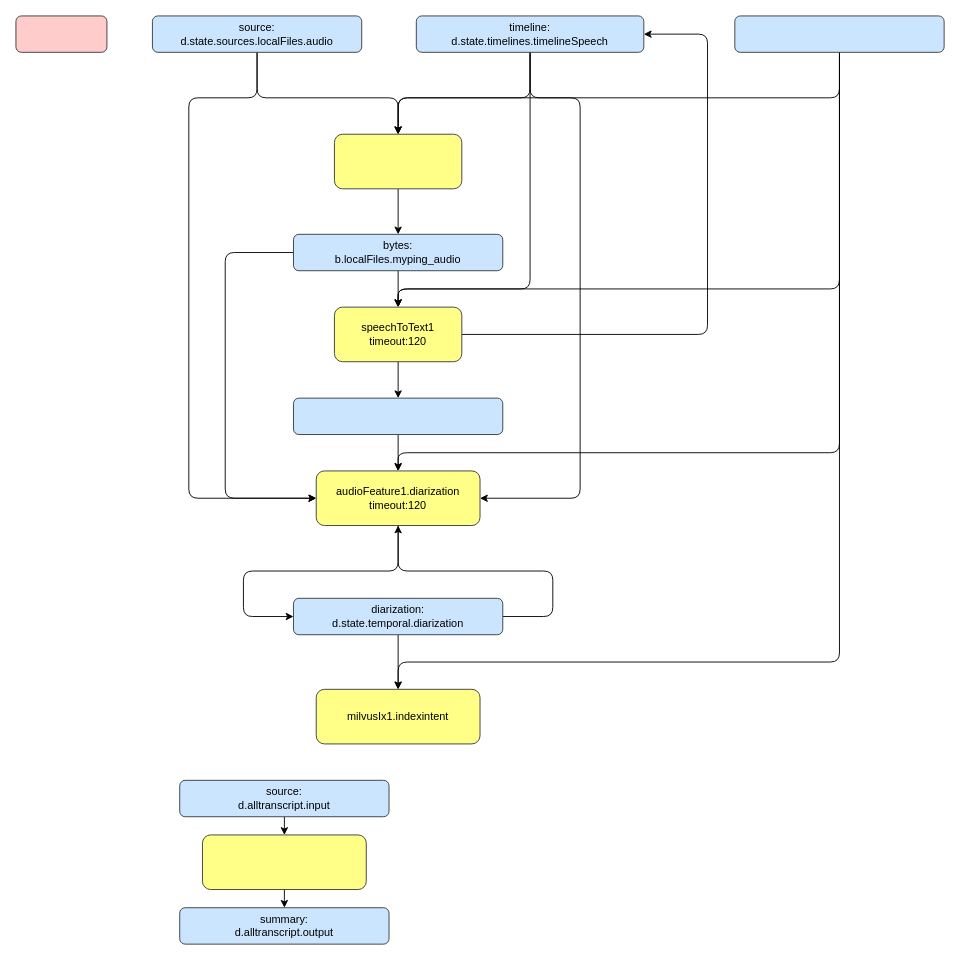
Some shapes in this 960 by 960 pixel diagram are drawn without their labels. The shapes that lost their labels are listed below. From the top down, each one's centre as x and y in pixels, then its label:
At (x=61, y=33): "type:flux".
At (x=839, y=33): "media: d.args.sql".
At (x=398, y=161): "localFiles1.read".
At (x=398, y=416): "transcript: d.transcript".
At (x=284, y=862): "llm.summary timeout:900".
